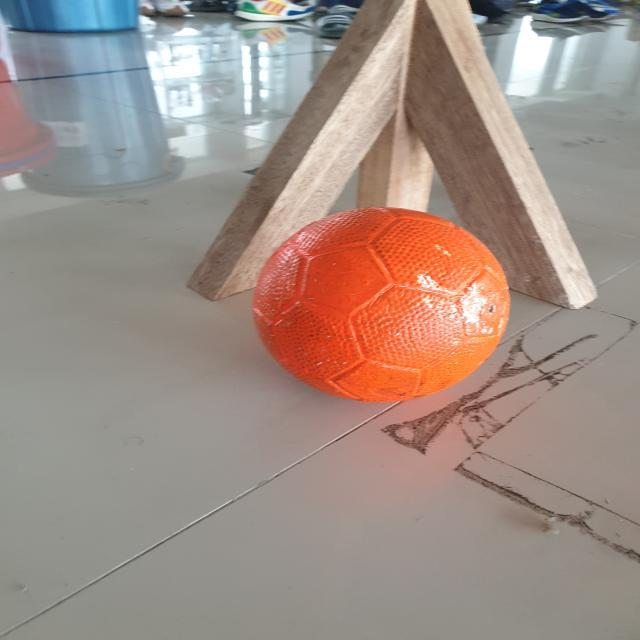bola: (245, 191, 521, 410)
